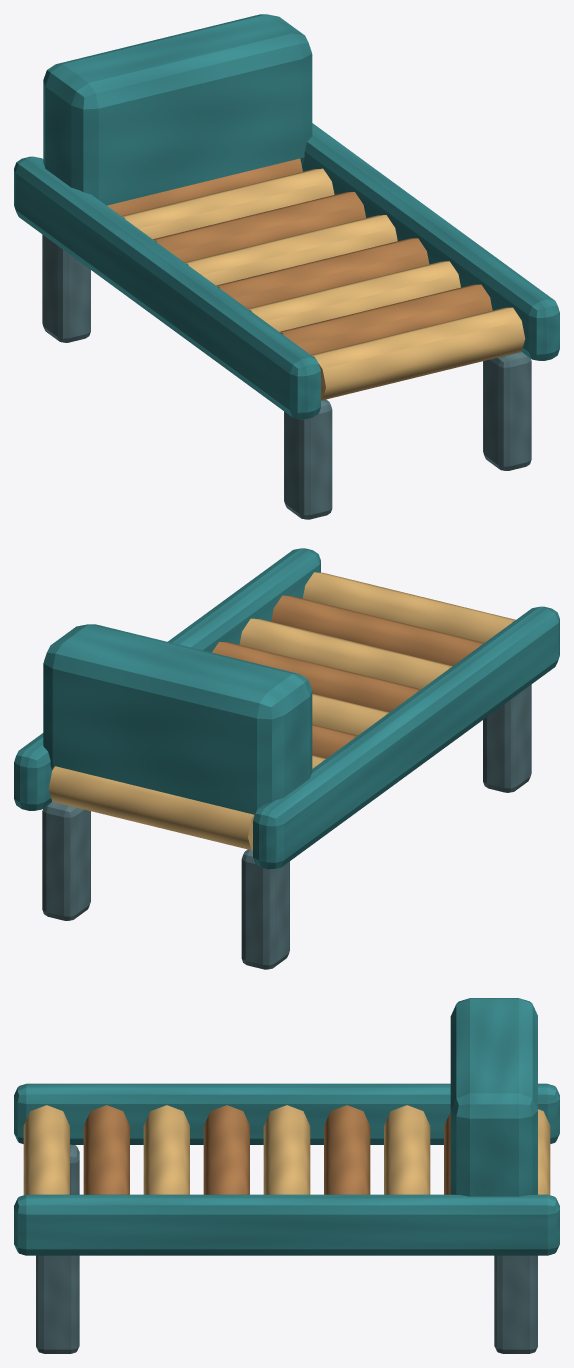
File: conveyor-end.glb
The picture shows the model from 3 angles, top to bottom: view 1: azimuth 30°, elevation 25°; view 2: azimuth 150°, elevation 25°; view 3: azimuth 270°, elevation 25°; orthographic projection. The views are drawn at different scales.
Visible parts, largest first — view 1: conveyor-end-mesh; view 2: conveyor-end-mesh; view 3: conveyor-end-mesh.
Boxes of the visible parts, x1,y1,x2,y2 form: conveyor-end-mesh: (14,14,559,519); conveyor-end-mesh: (14,548,559,969); conveyor-end-mesh: (14,998,559,1353).
Size of the model in its own units: 1.08 by 1.04 by 2.
1 material, 1 textured.
